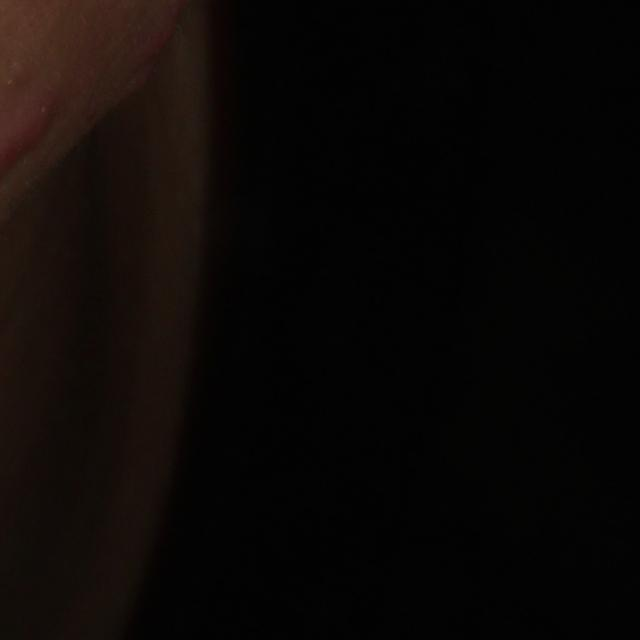papule: (138, 15, 177, 71)
